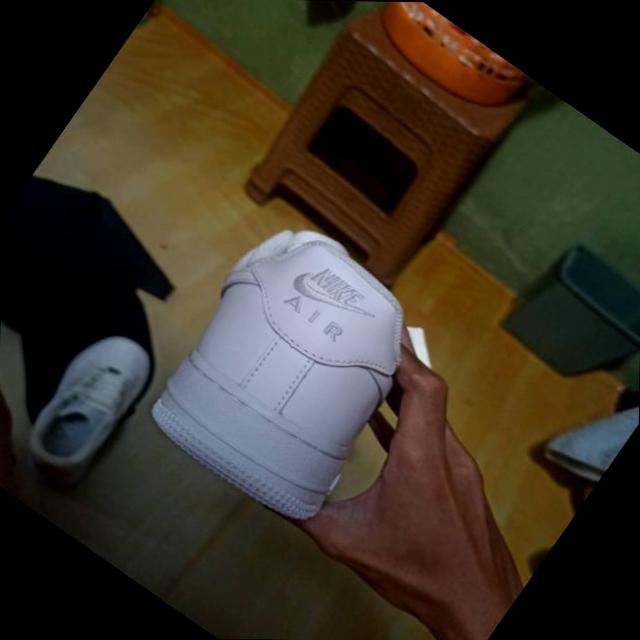nike_fake_airforce: (126, 192, 463, 541)
